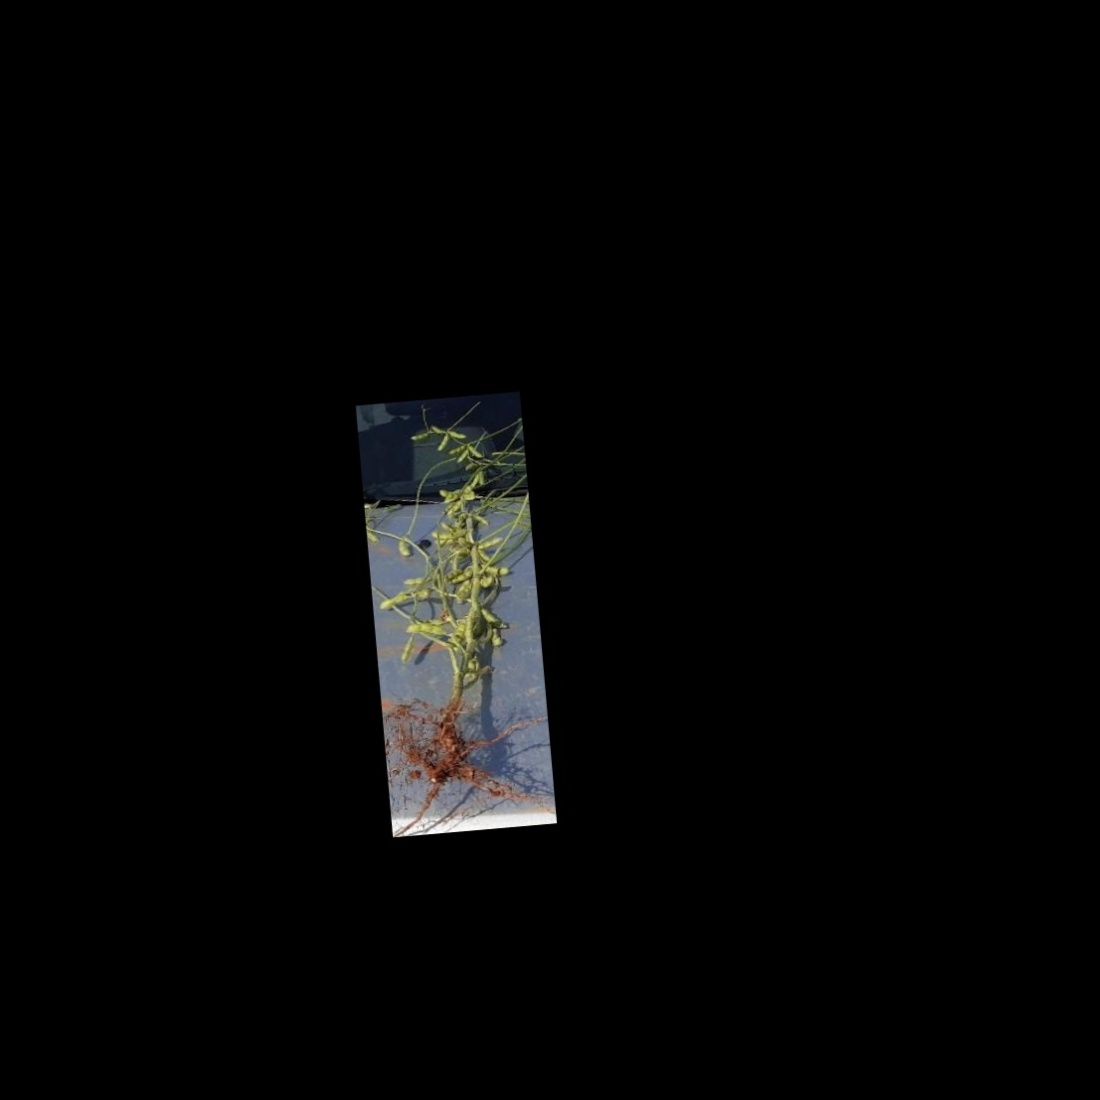pod: (403, 621, 450, 641), (375, 591, 410, 612), (398, 637, 416, 666), (395, 538, 414, 559), (476, 537, 503, 551), (486, 563, 510, 577), (435, 432, 451, 453), (401, 575, 427, 587), (437, 488, 461, 501), (466, 443, 484, 461), (472, 512, 492, 528), (409, 431, 430, 442), (455, 448, 468, 465), (448, 429, 468, 440), (469, 471, 482, 489), (477, 470, 486, 487)
soy: (360, 396, 544, 813)
